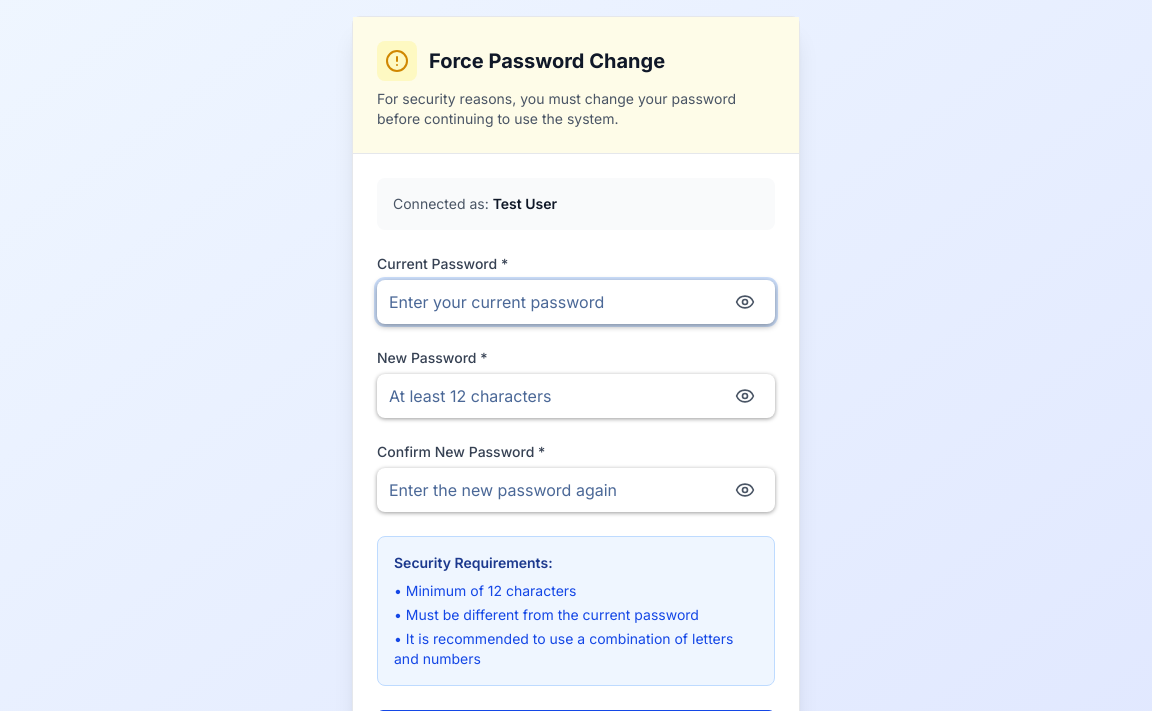
Scenario: ForcePasswordChangePage › Password change form › should show error when passwords do not match
Type "current123" into the password field with placeholder "Enter your current password". click: (576, 302)
box: 377,280 -> 775,324
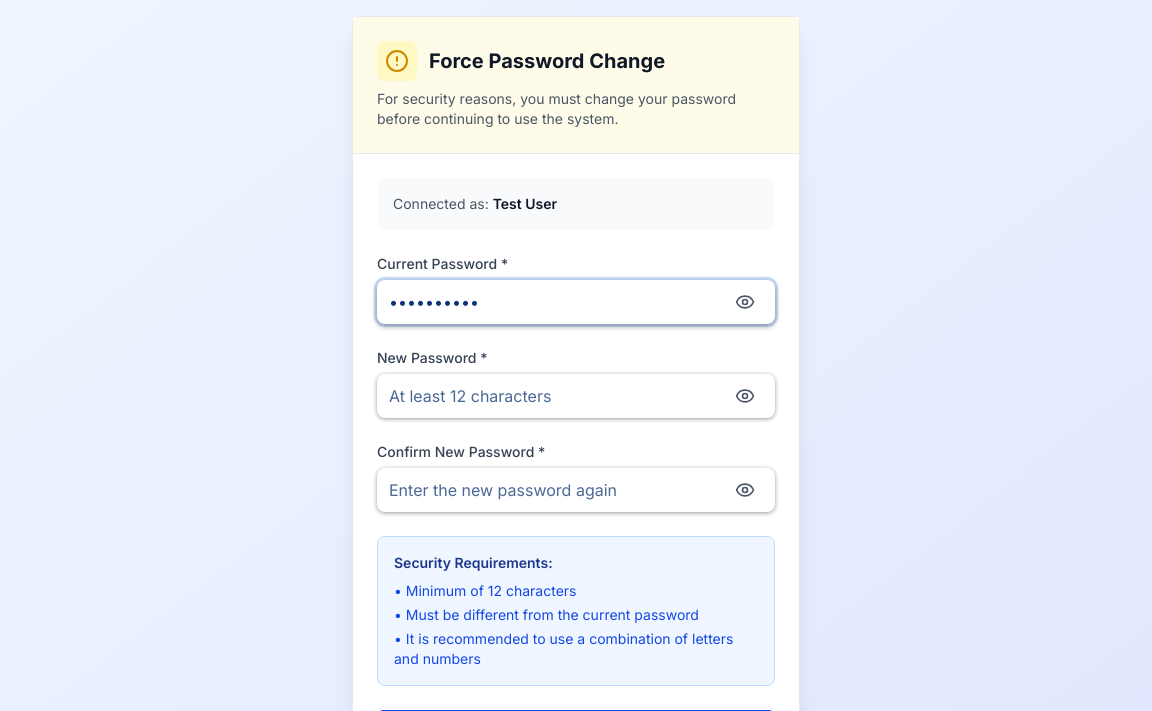
Type "ValidPassword123" into the password field with placeholder "At least 12 characters". click: (576, 396)
box: 377,374 -> 775,418
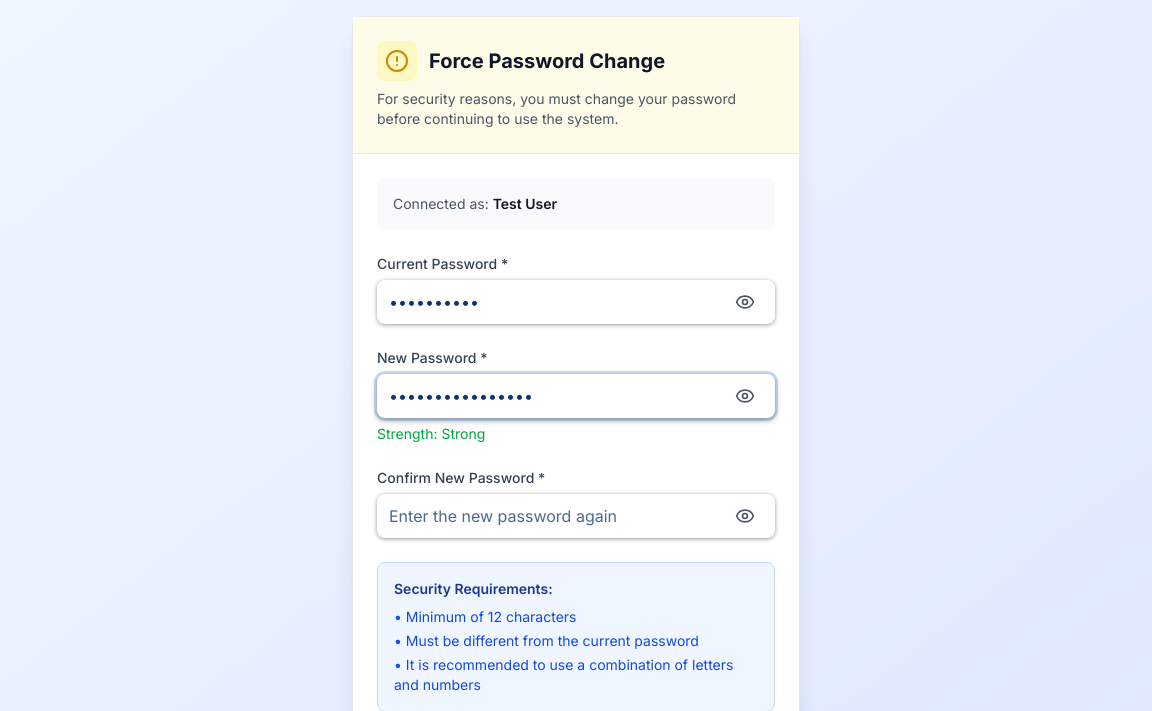
Type "DifferentPassword123" into the password field with placeholder "Enter the new password again". click: (576, 516)
box: 377,494 -> 775,538
(page scrolled)
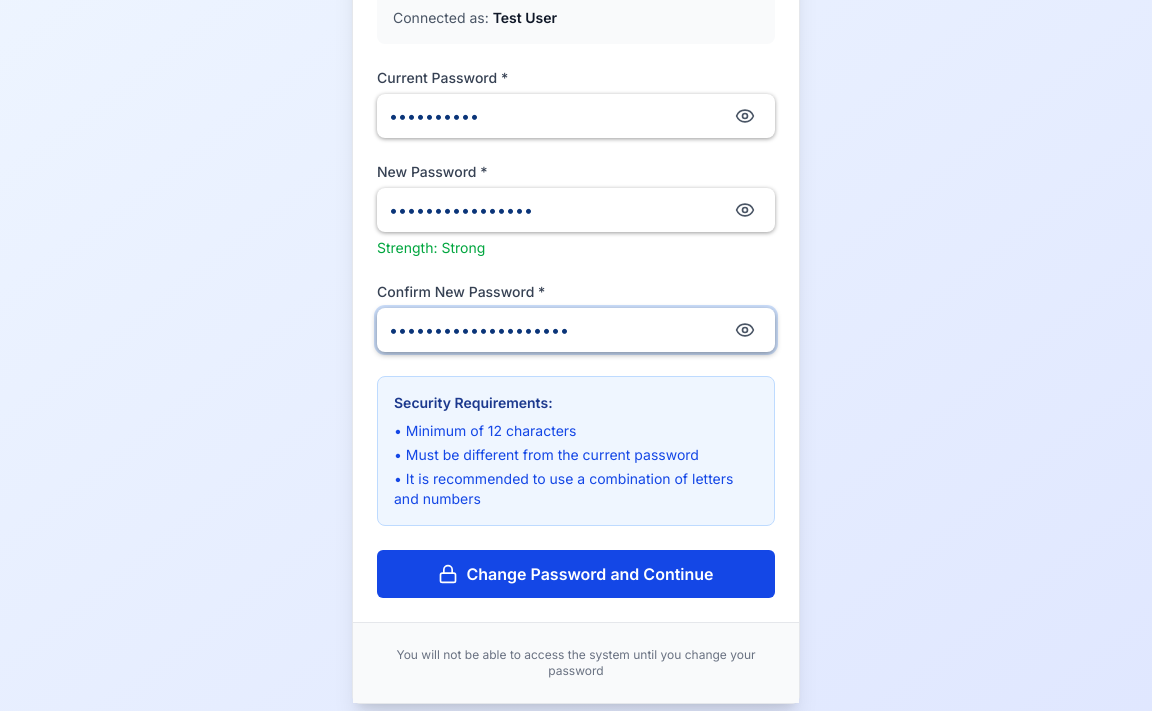
Click the button "Change Password and Continue". click: (576, 574)
box: 377,550 -> 775,598
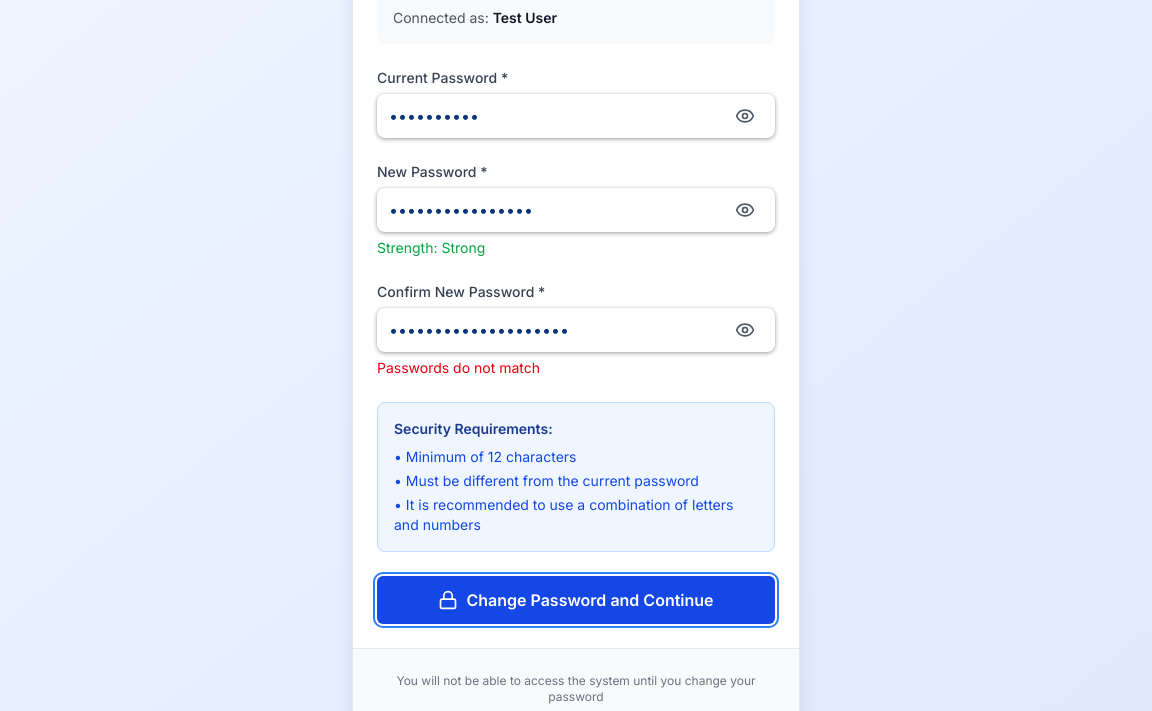
Check: the text "Passwords do not match" is shown, box 377,359 -> 540,376
